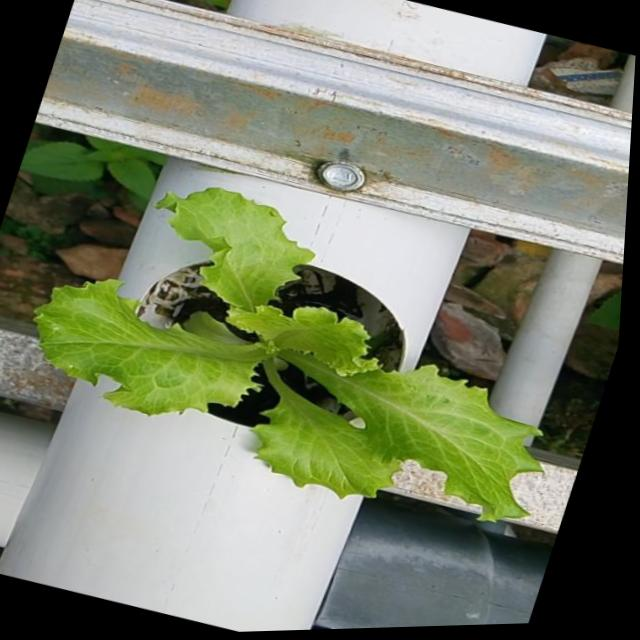Baby: (35, 188, 542, 522)
